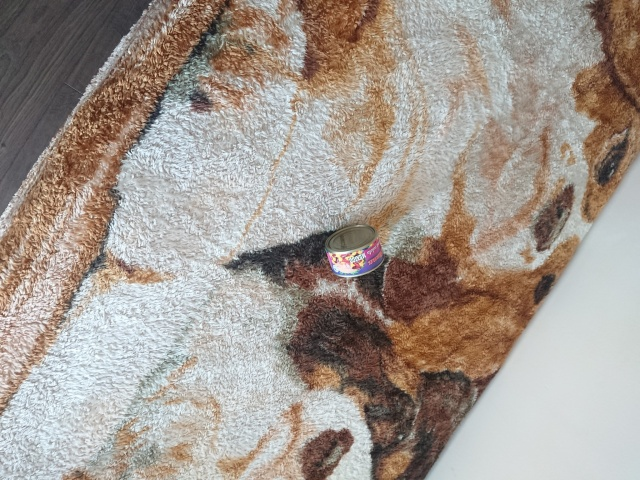Giana Tuna Salad Mexico 185g: (323, 223, 387, 279)
